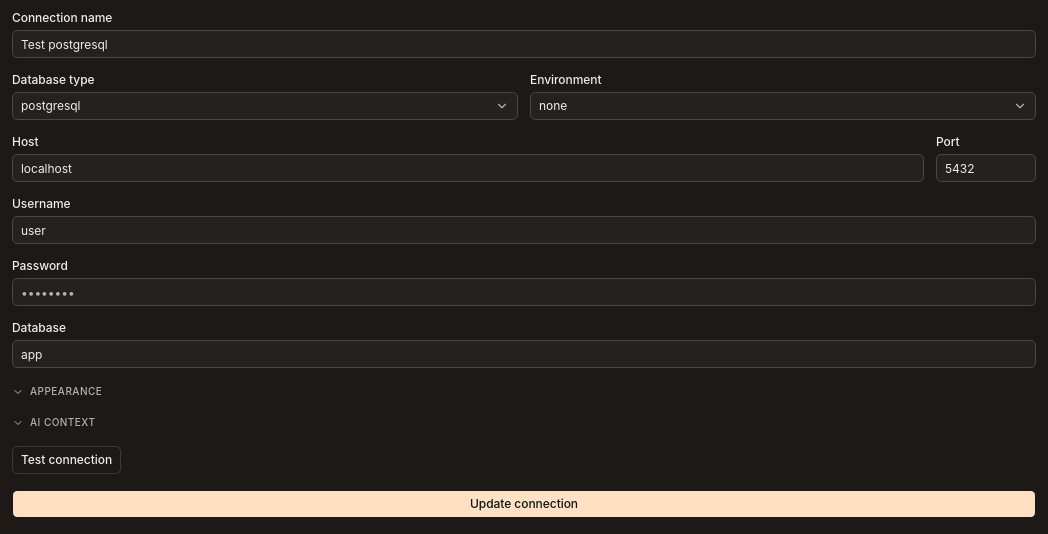
Test: connectionForm test-connection flow › shows a success pill when the test resolves successfully
Click the button "Test connection" at {"x": 67, "y": 460}, box top-left (12, 446), bottom-right (121, 474)
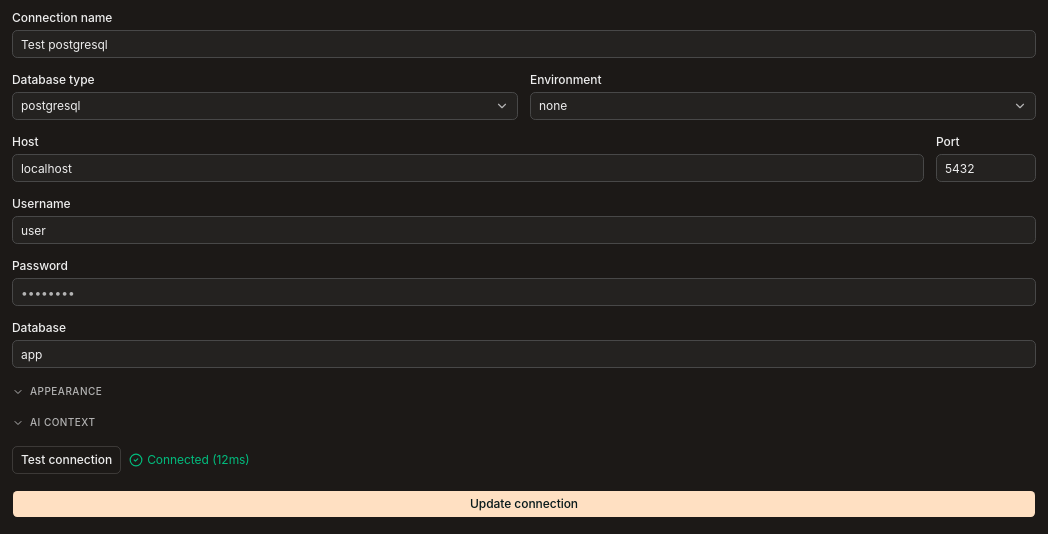
Check: the text "Connected (12ms)" is shown, box top-left (129, 452), bottom-right (250, 468)
